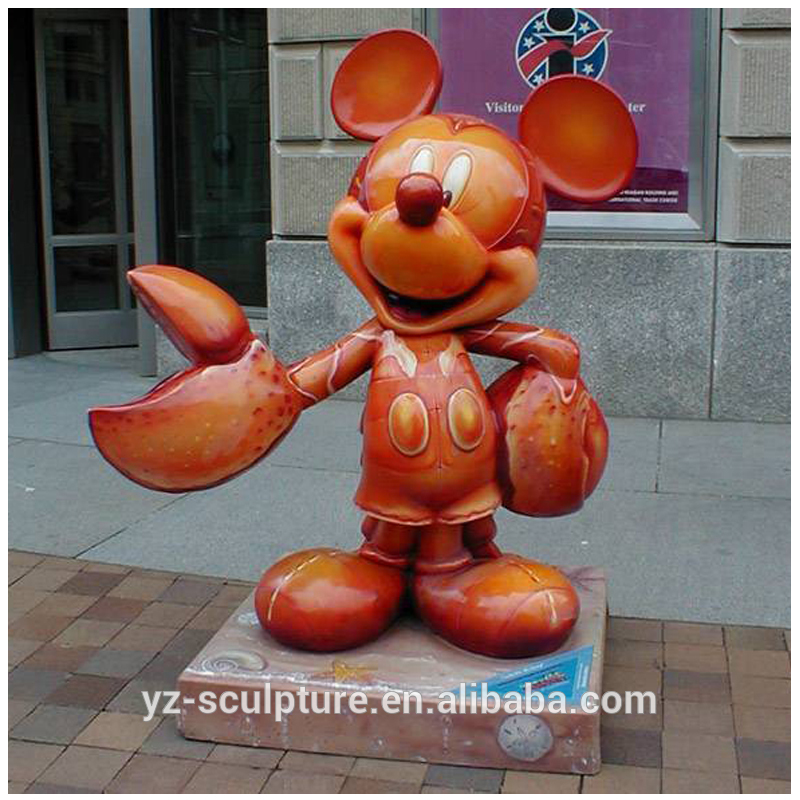Mickey: (320, 28, 644, 338)
